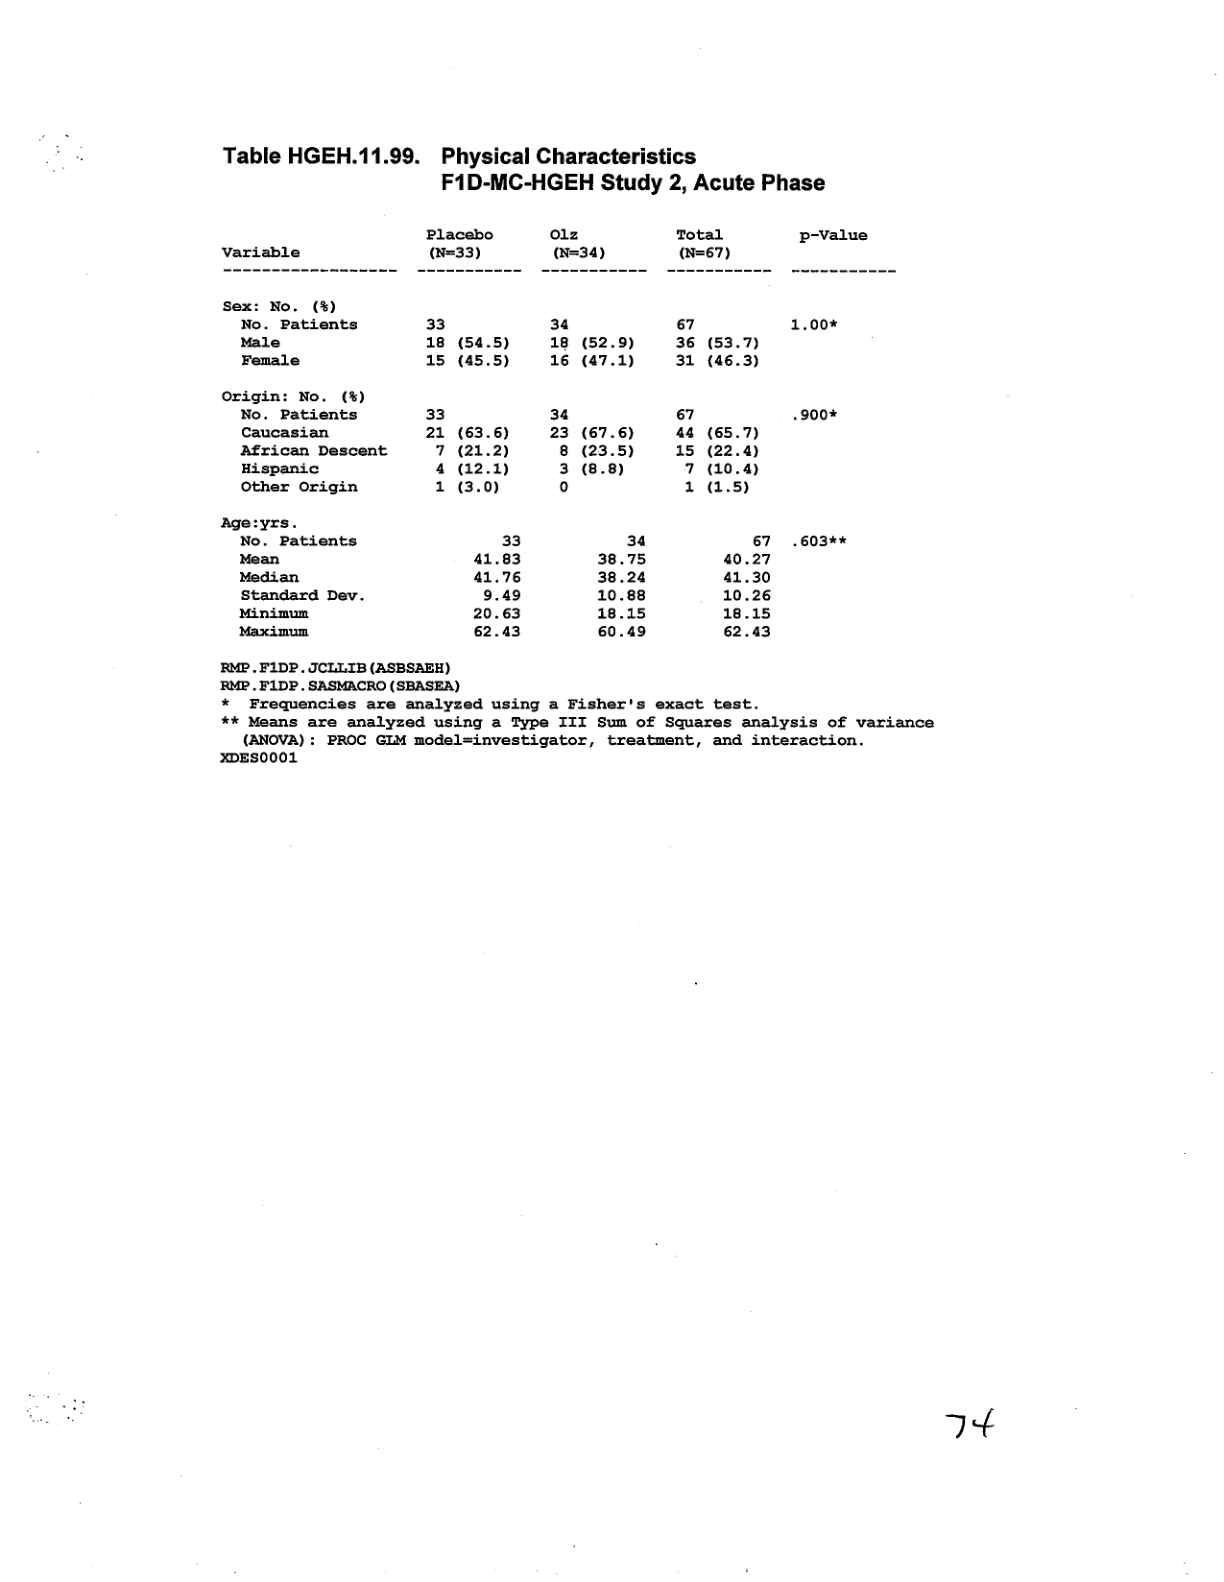nolines: (214, 222, 898, 641)
